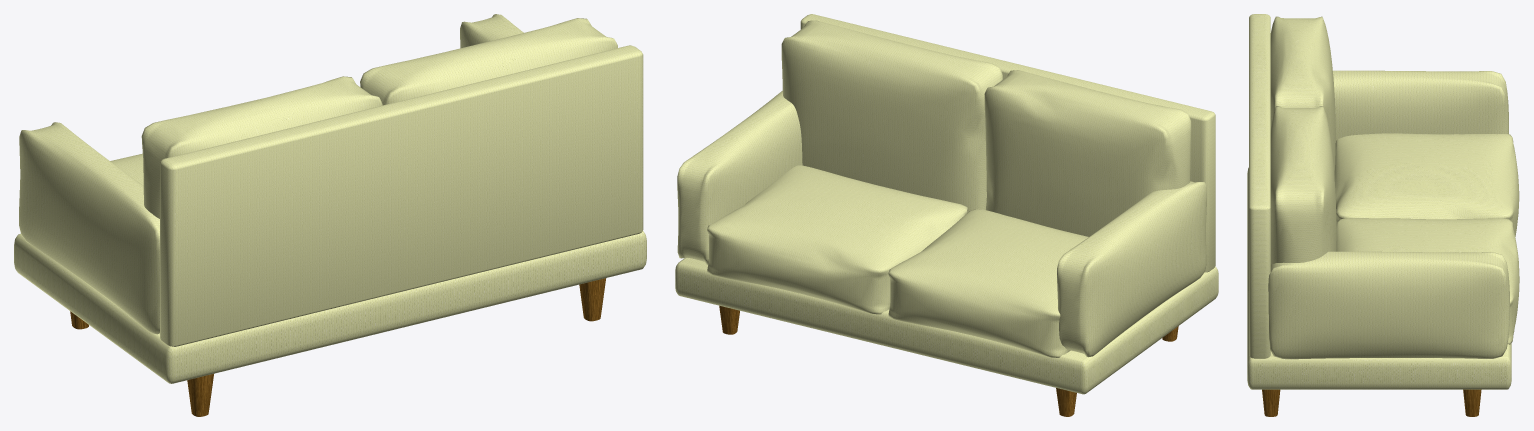
The model's file is Sofa.FBX.
The picture shows the model from 3 angles, left to right: view 1: azimuth 30°, elevation 25°; view 2: azimuth 150°, elevation 25°; view 3: azimuth 270°, elevation 25°; orthographic projection. The views are drawn at different scales.
Parts seen in each view (by area): view 1: ChamferBox002, ChamferBox001, Box006, Box004, Box003, Box005, Box008, Box010, Box001; view 2: Box003, Box004, Box002, Box001, ChamferBox001, Box006, Box005, ChamferBox002; view 3: Box005, Box001, Box006, Box003, ChamferBox001, ChamferBox002, Box002, Box004, Box007, Box008.
Boxes of the visible parts, <box> form: ChamferBox002: <box>160,45,643,346</box>; ChamferBox001: <box>14,231,646,383</box>; Box006: <box>19,122,159,334</box>; Box004: <box>141,76,382,218</box>; Box003: <box>360,18,617,105</box>; Box005: <box>460,14,523,48</box>; Box008: <box>579,278,606,321</box>; Box010: <box>187,374,213,416</box>; Box001: <box>110,153,143,185</box>; Box003: <box>781,20,1002,212</box>; Box004: <box>984,70,1191,236</box>; Box002: <box>707,165,967,314</box>; Box001: <box>888,209,1088,357</box>; ChamferBox001: <box>675,258,1218,394</box>; Box006: <box>1057,181,1206,357</box>; Box005: <box>677,91,802,264</box>; ChamferBox002: <box>800,14,1215,272</box>; Box005: <box>1268,251,1509,359</box>; Box001: <box>1334,133,1519,236</box>; Box006: <box>1333,70,1508,142</box>; Box003: <box>1270,106,1336,264</box>; ChamferBox001: <box>1247,167,1511,389</box>; ChamferBox002: <box>1249,14,1270,358</box>; Box002: <box>1336,218,1519,344</box>; Box004: <box>1270,16,1335,175</box>; Box007: <box>1463,389,1481,416</box>; Box008: <box>1262,389,1280,416</box>.
Bounding box in the file's own units: 108 × 58.57 × 61.36.
Materials: 2 (2 with a texture image).
